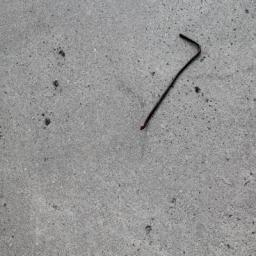FOD: (139, 31, 206, 139)
